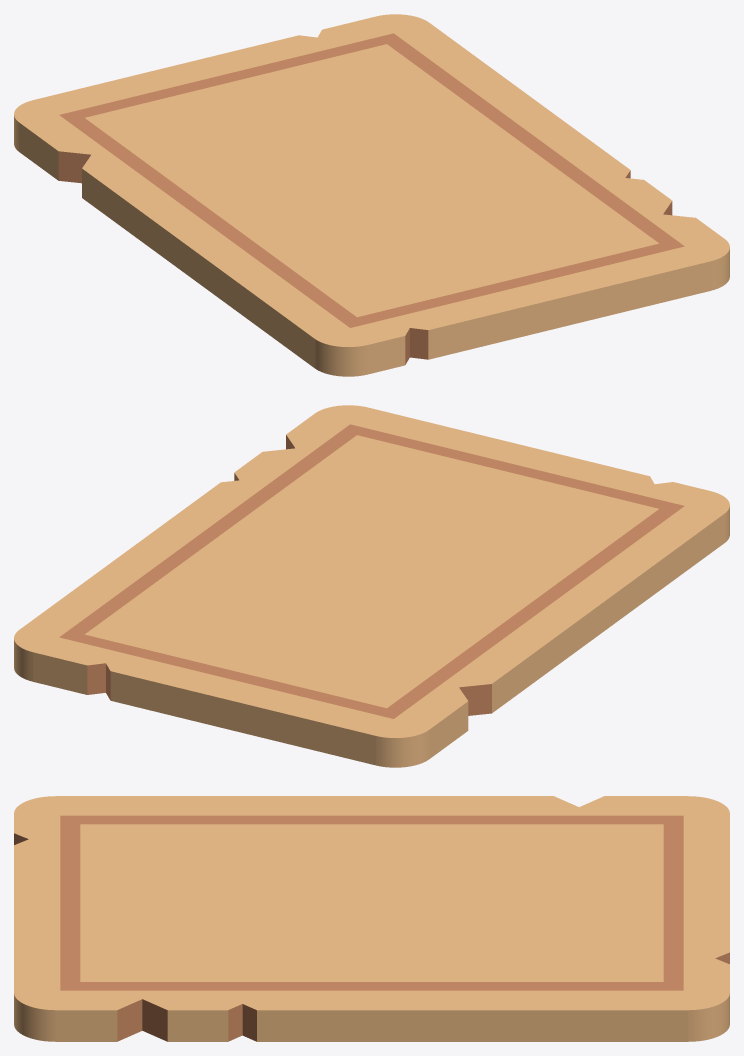
File: cuttingBoard.dae
The picture shows the model from 3 angles, top to bottom: view 1: azimuth 30°, elevation 25°; view 2: azimuth 150°, elevation 25°; view 3: azimuth 270°, elevation 25°; orthographic projection. The views are drawn at different scales.
Parts seen in each view (by area): view 1: cuttingBoard; view 2: cuttingBoard; view 3: cuttingBoard.
Part boxes in pixels (x1=…): cuttingBoard: x1=14, y1=14, x2=729, y2=376; cuttingBoard: x1=14, y1=405, x2=729, y2=767; cuttingBoard: x1=14, y1=796, x2=729, y2=1041.
Bounding box in the file's own units: 0.58 × 0.04 × 0.82.
